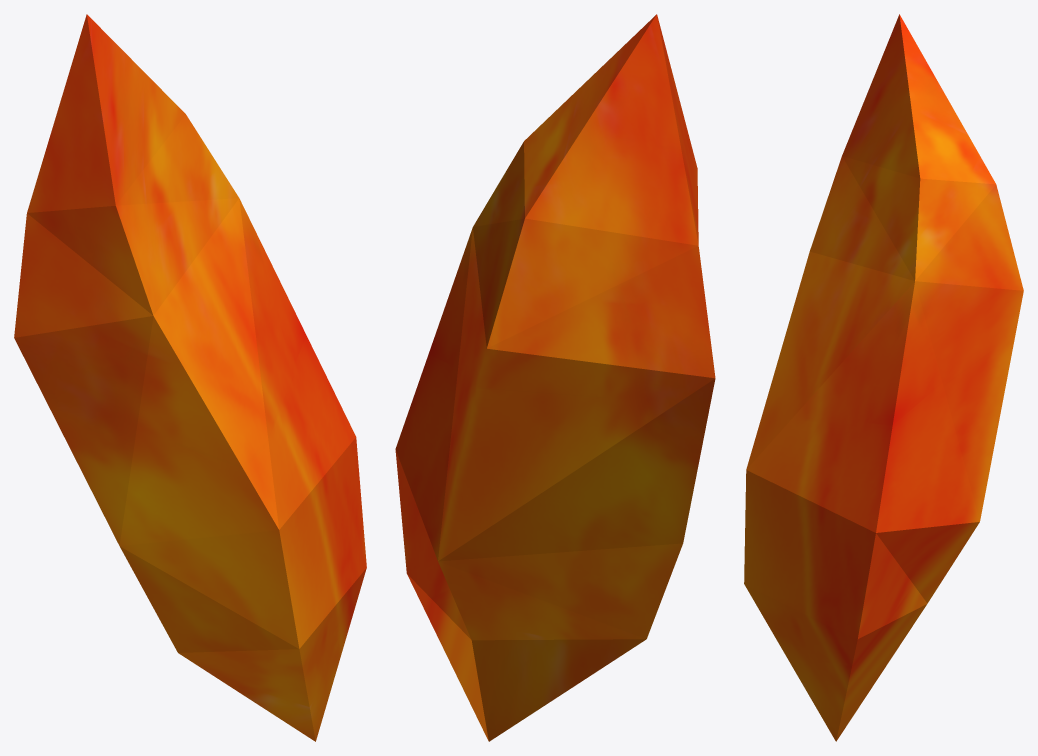
File: Island_2_Tree_1_Leaf_8.gltf
The picture shows the model from 3 angles, left to right: view 1: azimuth 30°, elevation 25°; view 2: azimuth 150°, elevation 25°; view 3: azimuth 270°, elevation 25°; orthographic projection. The views are drawn at different scales.
Parts seen in each view (by area): view 1: Island_2_Tree_1_Leaf_8; view 2: Island_2_Tree_1_Leaf_8; view 3: Island_2_Tree_1_Leaf_8.
Boxes of the visible parts, box(x1,y1,x2,y2) form: Island_2_Tree_1_Leaf_8: box(14, 14, 366, 741); Island_2_Tree_1_Leaf_8: box(395, 14, 715, 741); Island_2_Tree_1_Leaf_8: box(744, 14, 1023, 741).
Bounding box in the file's own units: 0.6467 × 1.45 × 0.5673.
Materials: 1 (1 with a texture image).
